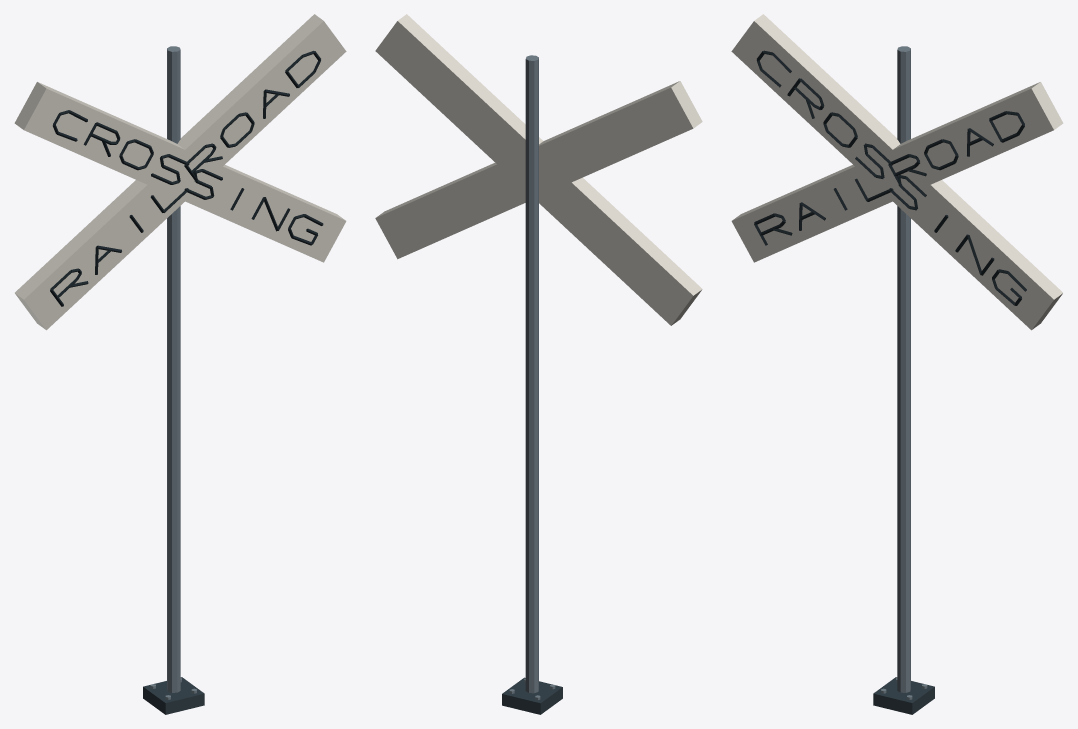
File: b02_railroad_crossbuck.glb
The picture shows the model from 3 angles, left to right: view 1: azimuth 30°, elevation 25°; view 2: azimuth 150°, elevation 25°; view 3: azimuth 330°, elevation 25°; orthographic projection.
Parts seen in each view (by area): view 1: b02_railroad_crossbuck; view 2: b02_railroad_crossbuck; view 3: b02_railroad_crossbuck.
Boxes of the visible parts, x1=… form: b02_railroad_crossbuck: x1=14, y1=14, x2=346, y2=714; b02_railroad_crossbuck: x1=375, y1=14, x2=702, y2=714; b02_railroad_crossbuck: x1=731, y1=14, x2=1063, y2=714.
Size of the model in its own units: 1.48 by 2.88 by 0.202.
